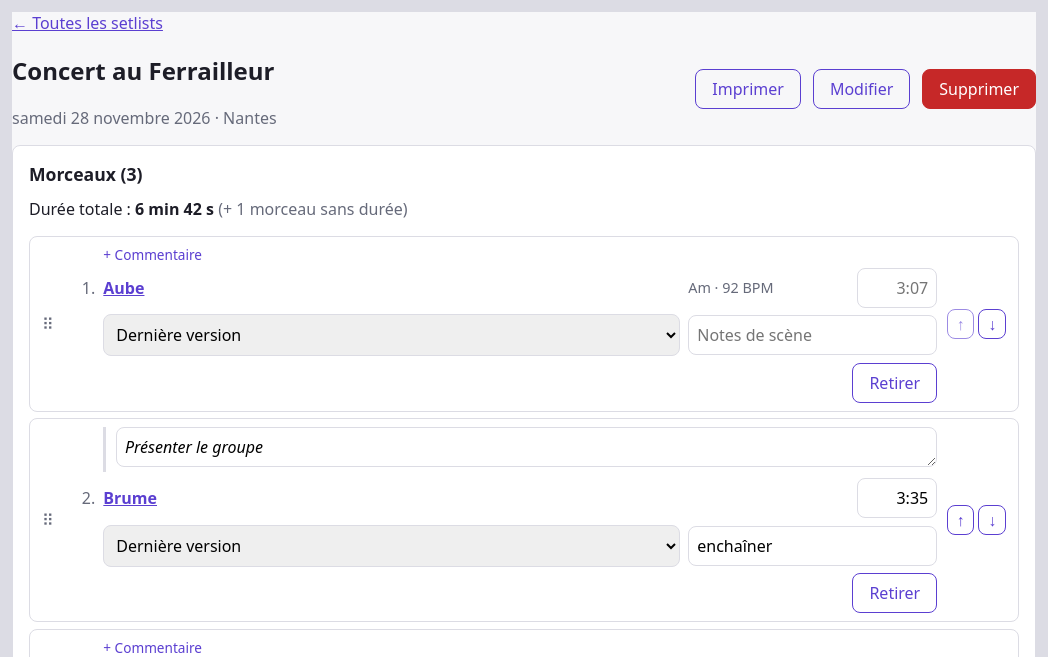
Test case: SetlistDetailPage › un refus remet l'ordre enregistré et affiche le message
Click the button named "Descendre Aube". click: (992, 324)
box: x1=978 y1=308 x2=1006 y2=339
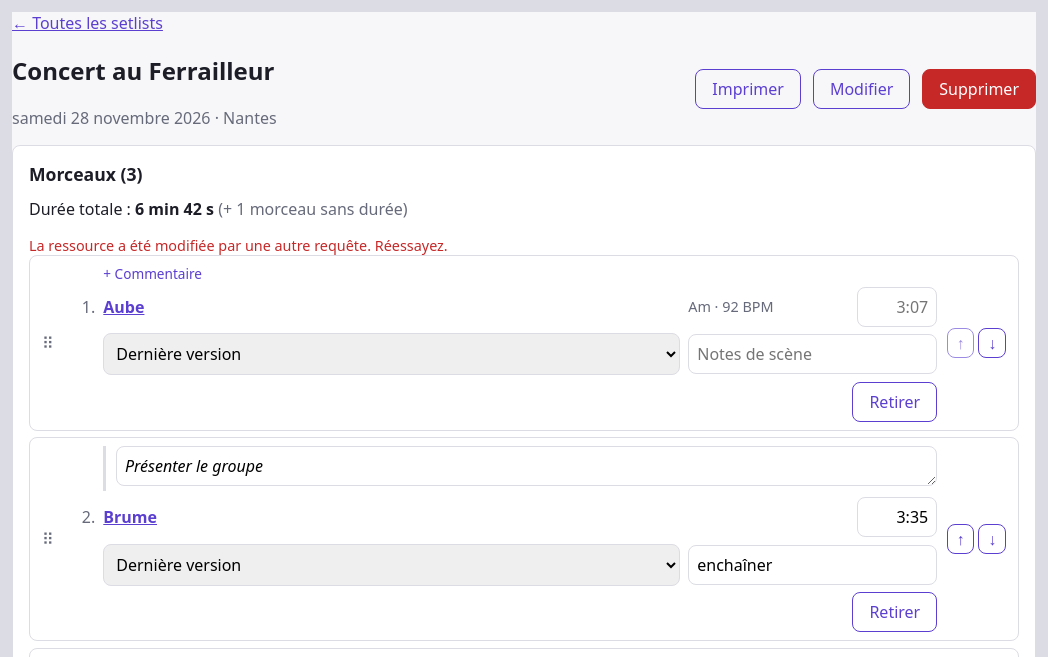
Now the message "La ressource a été modifiée par une autre requête. Réessayez." is shown, box x1=29 y1=236 x2=448 y2=255
